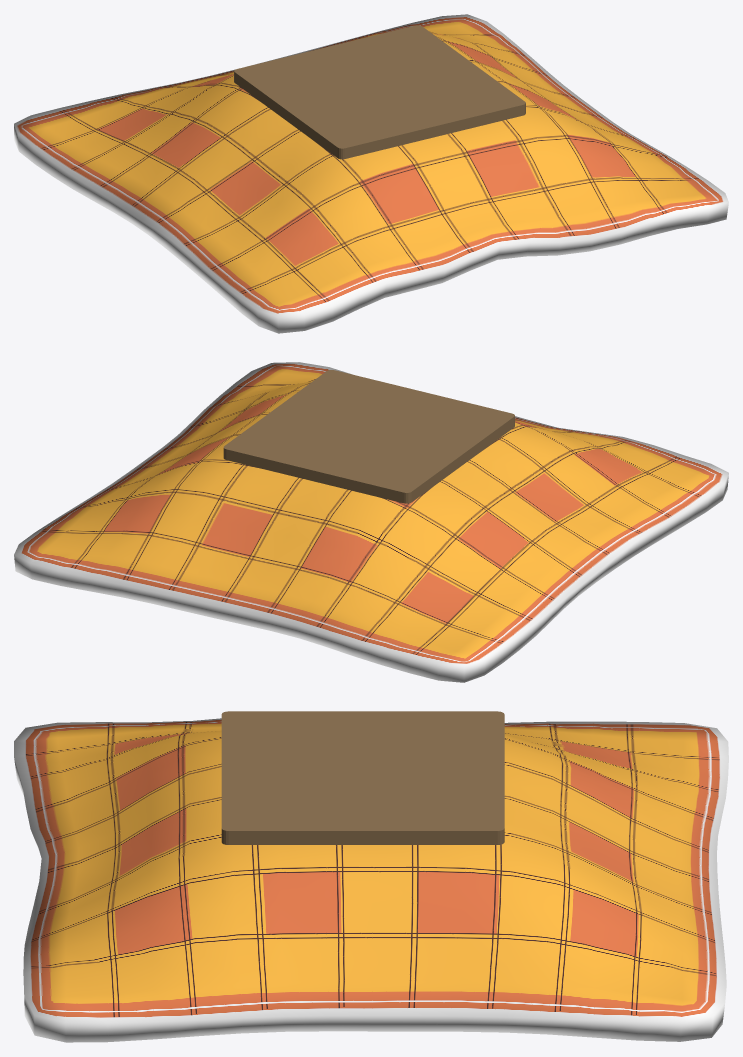
The model's file is kotatu.fbx.
3 views of the same model, one above another, from view 1: azimuth 30°, elevation 25°; view 2: azimuth 150°, elevation 25°; view 3: azimuth 270°, elevation 25° (orthographic). The views are drawn at different scales.
Visible parts, largest first — view 1: kotatumouhu.001, kotatu.002; view 2: kotatumouhu.001, kotatu.002; view 3: kotatumouhu.001, kotatu.002.
Boxes of the visible parts, x1,y1,x2,y2 form: kotatumouhu.001: (14, 14, 728, 333); kotatu.002: (234, 25, 525, 159); kotatumouhu.001: (14, 362, 728, 682); kotatu.002: (223, 370, 514, 503); kotatumouhu.001: (14, 718, 728, 1042); kotatu.002: (221, 711, 504, 844).
Bounding box in the file's own units: 525 × 102 × 526.
